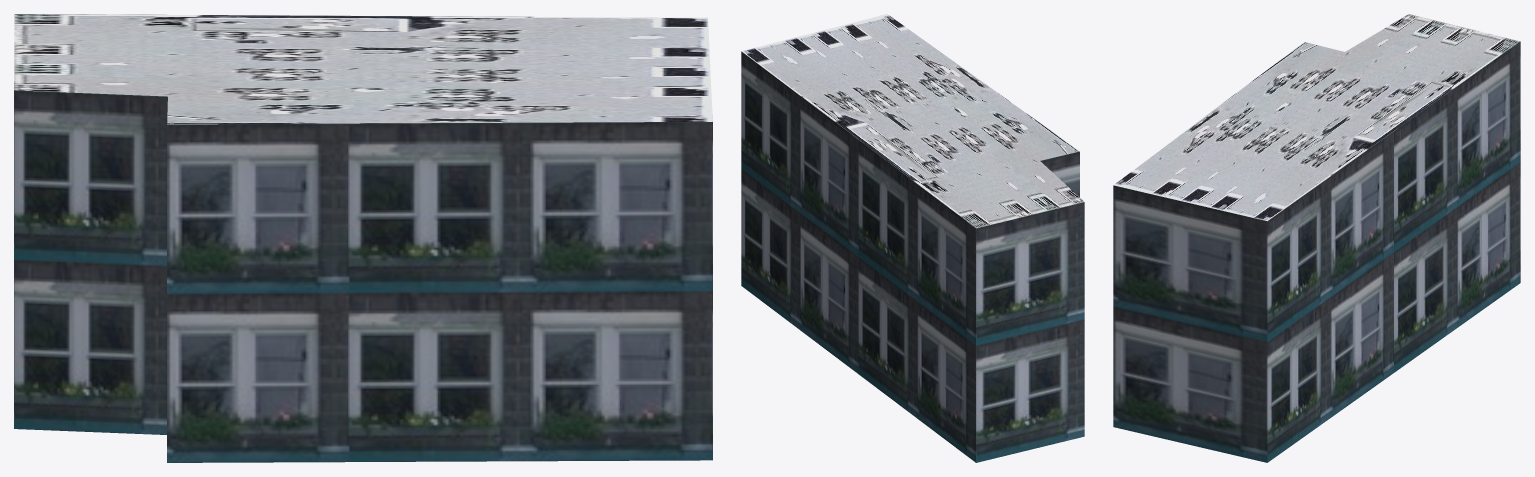
File: ResTex__3803.fbx
3 views of the same model, side by side, from view 1: azimuth 30°, elevation 25°; view 2: azimuth 150°, elevation 25°; view 3: azimuth 270°, elevation 25° (orthographic). The views are drawn at different scales.
Visible parts, largest first — view 1: CityEngineMaterial_11_m, CityEngineMaterial_8_m; view 2: CityEngineMaterial_11_m, CityEngineMaterial_8_m; view 3: CityEngineMaterial_11_m, CityEngineMaterial_8_m.
Part boxes in pixels (x1,y1,x2,y2): CityEngineMaterial_11_m: (14,90,712,462); CityEngineMaterial_8_m: (14,14,712,124); CityEngineMaterial_11_m: (741,51,1084,462); CityEngineMaterial_8_m: (741,14,1083,228); CityEngineMaterial_11_m: (1113,41,1520,462); CityEngineMaterial_8_m: (1114,14,1519,221).
Size of the model in its own units: 11.03 by 6 by 9.16.
Materials: 2 (2 with a texture image).
